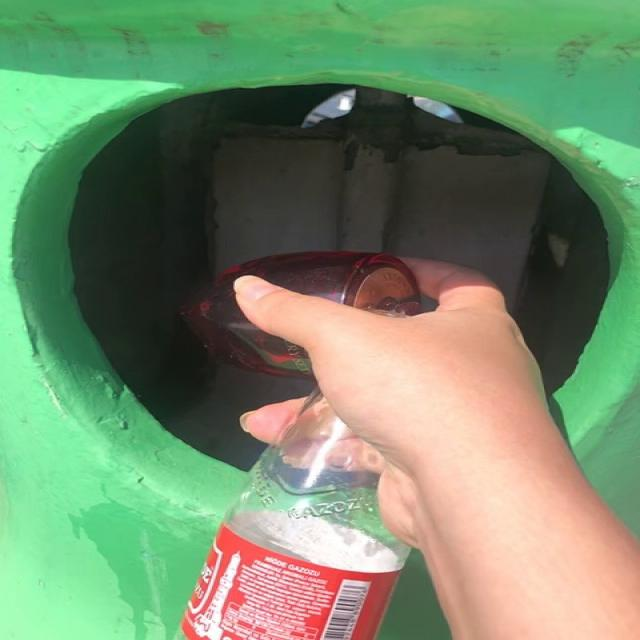glass: (181, 391, 409, 640), (184, 251, 421, 374)
